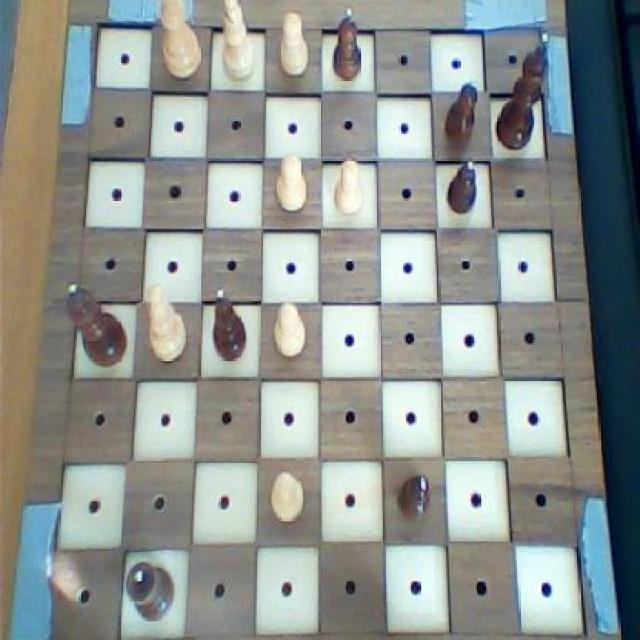bishop: (209, 282, 252, 364)
black-bishop: (494, 28, 551, 154)
black-knight: (443, 74, 480, 149), (331, 6, 364, 82), (391, 472, 433, 527), (445, 155, 480, 217)
black-pawn: (64, 278, 128, 371)
black-queen: (124, 558, 176, 622)
black-rook: (141, 281, 187, 367), (218, 0, 254, 85)
white-bishop: (157, 0, 203, 85)
white-knight: (275, 8, 311, 83), (274, 148, 310, 216), (269, 466, 306, 527), (331, 156, 366, 218), (272, 298, 308, 358)
